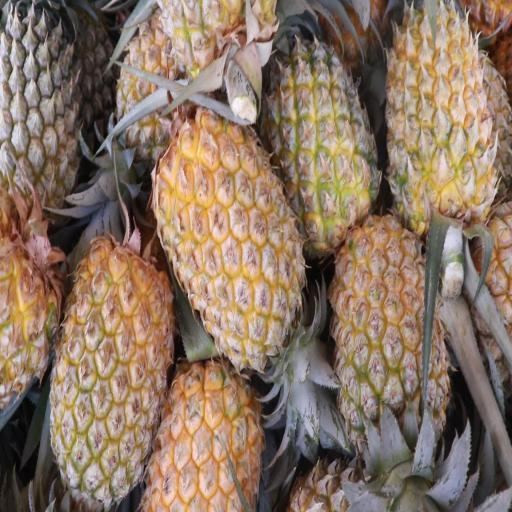------------------------------: (261, 4, 382, 254)
Pineapple - v8 v1: (147, 84, 308, 383), (327, 205, 452, 509), (46, 234, 176, 512), (384, 2, 496, 264), (139, 354, 268, 512)
